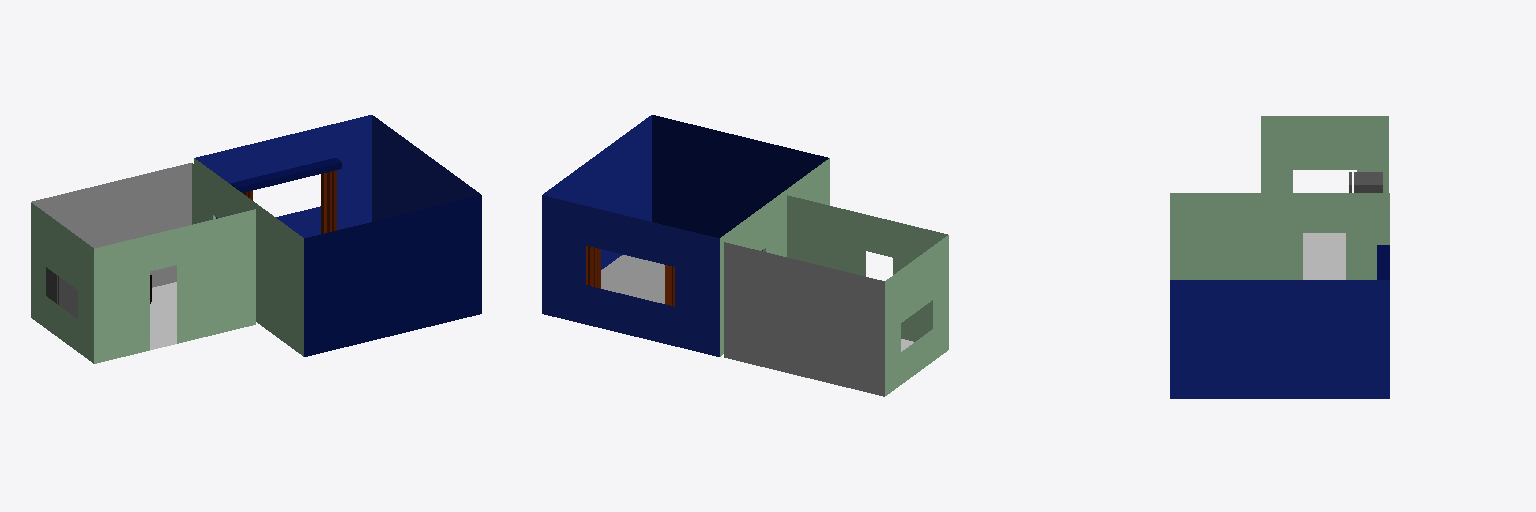
File: home003.obj
The picture shows the model from 3 angles: view 1: azimuth 30°, elevation 25°; view 2: azimuth 150°, elevation 25°; view 3: azimuth 270°, elevation 25°; orthographic projection.
Visible parts, largest first — view 1: Cube; view 2: Cube; view 3: Cube.
Boxes of the visible parts, <box> form: Cube: <box>31,115,481,363</box>; Cube: <box>542,115,948,396</box>; Cube: <box>1170,116,1389,398</box>.
Size of the model in its own units: 26.96 by 8.94 by 15.